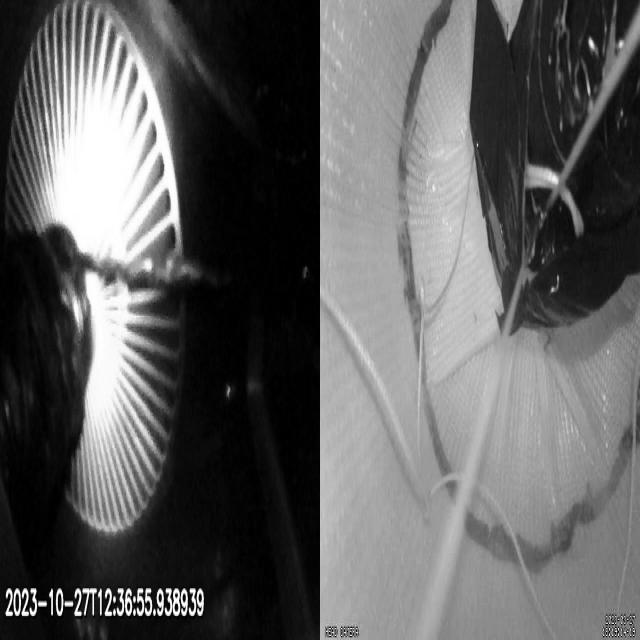red-circle: (396, 0, 639, 573)
